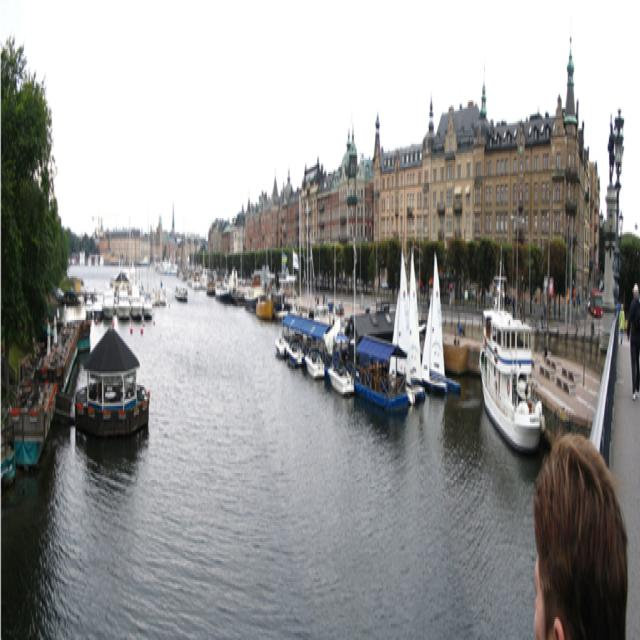Boat: (488, 248, 571, 475), (352, 322, 414, 440), (418, 241, 452, 401), (406, 241, 432, 415), (326, 313, 359, 406), (390, 245, 410, 378), (305, 327, 328, 394), (286, 329, 318, 374), (276, 322, 302, 356)
